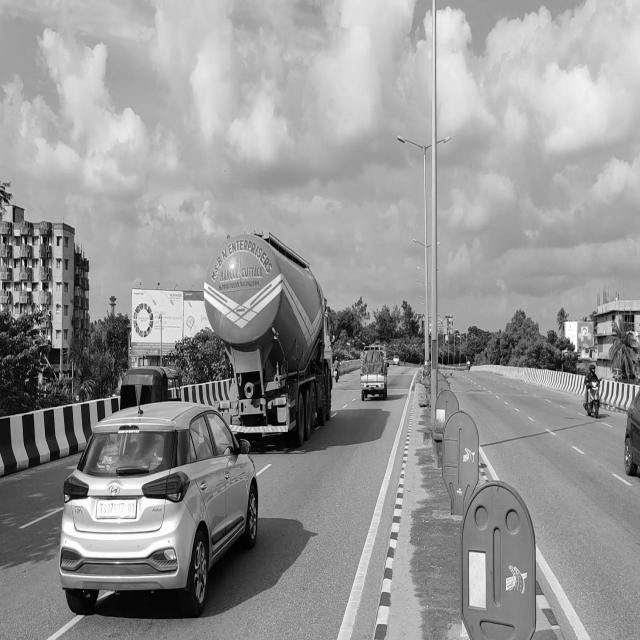bike: (582, 376, 602, 420)
car: (61, 409, 258, 612)
truck: (205, 231, 335, 436)
